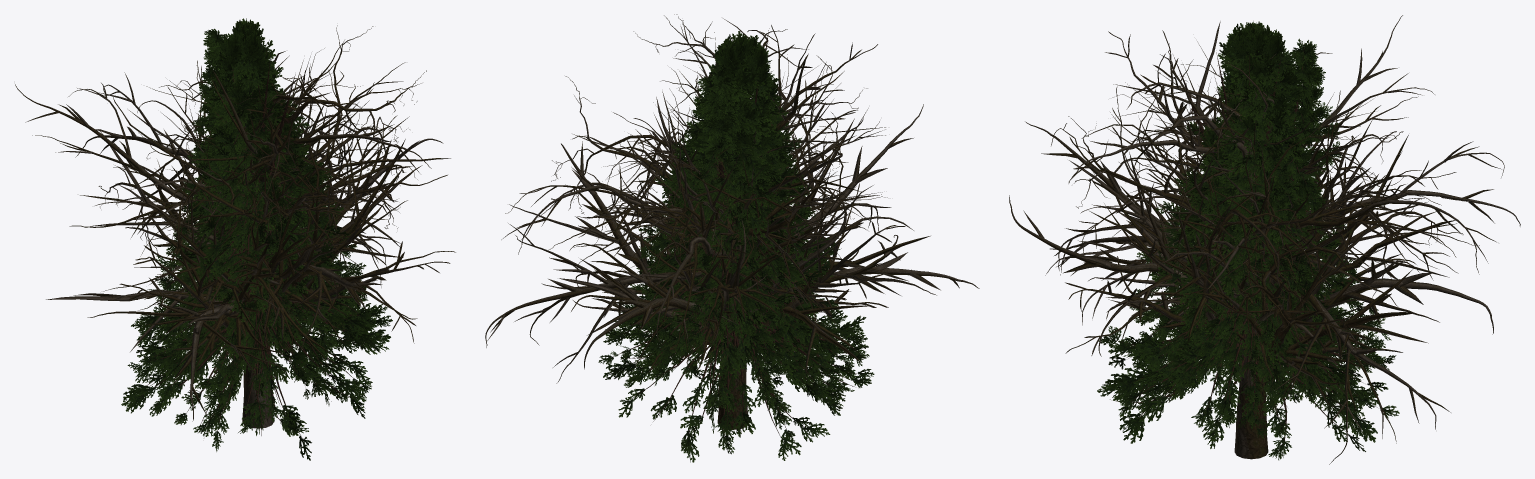
The model's file is trees.glb.
The picture shows the model from 3 angles, left to right: view 1: azimuth 30°, elevation 25°; view 2: azimuth 150°, elevation 25°; view 3: azimuth 270°, elevation 25°; orthographic projection. The views are drawn at different scales.
Parts seen in each view (by area): view 1: full_dead_0_0, full_living_0_1, lite_living_0_1, full_living_1_1, lite_living_1_1, full_dead_2_0, lite_dead_0_0, full_living_2_1, full_dead_3_0, full_dead_1_0, lite_living_2_1, lite_dead_3_0 (+7 smaller); view 2: full_dead_0_0, full_living_0_1, lite_living_0_1, full_living_2_1, full_living_1_1, lite_living_1_1, lite_living_2_1, full_dead_2_0, lite_dead_0_0, full_dead_3_0, full_dead_1_0, lite_dead_3_0 (+7 smaller); view 3: full_dead_0_0, lite_living_0_1, full_living_0_1, full_living_2_1, lite_living_2_1, lite_living_1_1, full_dead_3_0, lite_dead_0_0, full_dead_2_0, full_living_1_1, full_dead_1_0, lite_dead_3_0 (+5 smaller).
Part boxes in pixels (x1=…): full_dead_0_0: x1=15, y1=40, x2=443, y2=428; full_living_0_1: x1=125, y1=18, x2=387, y2=451; lite_living_0_1: x1=136, y1=18, x2=390, y2=460; full_living_1_1: x1=131, y1=32, x2=392, y2=434; lite_living_1_1: x1=121, y1=28, x2=366, y2=405; full_dead_2_0: x1=119, y1=60, x2=455, y2=398; lite_dead_0_0: x1=46, y1=70, x2=450, y2=368; full_living_2_1: x1=127, y1=28, x2=375, y2=429; full_dead_3_0: x1=98, y1=25, x2=426, y2=347; full_dead_1_0: x1=95, y1=48, x2=378, y2=310; lite_living_2_1: x1=153, y1=33, x2=372, y2=404; lite_dead_3_0: x1=112, y1=58, x2=422, y2=336; full_dead_0_0: x1=485, y1=15, x2=979, y2=429; full_living_0_1: x1=603, y1=43, x2=874, y2=454; lite_living_0_1: x1=603, y1=31, x2=868, y2=437; full_living_2_1: x1=614, y1=73, x2=869, y2=400; full_living_1_1: x1=614, y1=43, x2=871, y2=399; lite_living_1_1: x1=618, y1=35, x2=834, y2=462; lite_living_2_1: x1=598, y1=65, x2=867, y2=418; full_dead_2_0: x1=600, y1=25, x2=905, y2=405; lite_dead_0_0: x1=559, y1=58, x2=930, y2=376; full_dead_3_0: x1=537, y1=14, x2=867, y2=376; full_dead_1_0: x1=602, y1=32, x2=887, y2=339; lite_dead_3_0: x1=565, y1=18, x2=913, y2=333; full_dead_0_0: x1=1009, y1=15, x2=1520, y2=464; lite_living_0_1: x1=1105, y1=22, x2=1382, y2=448; full_living_0_1: x1=1108, y1=29, x2=1363, y2=460; full_living_2_1: x1=1098, y1=38, x2=1396, y2=438; lite_living_2_1: x1=1119, y1=48, x2=1391, y2=438; lite_living_1_1: x1=1108, y1=22, x2=1399, y2=451; full_dead_3_0: x1=1068, y1=43, x2=1463, y2=395; lite_dead_0_0: x1=1069, y1=21, x2=1455, y2=344; full_dead_2_0: x1=1051, y1=30, x2=1456, y2=387; full_living_1_1: x1=1097, y1=21, x2=1375, y2=415; full_dead_1_0: x1=1107, y1=41, x2=1386, y2=325; lite_dead_3_0: x1=1089, y1=52, x2=1425, y2=380.
Size of the model in its own units: 1.03 by 1.07 by 1.16.
3 materials, 3 textured.
